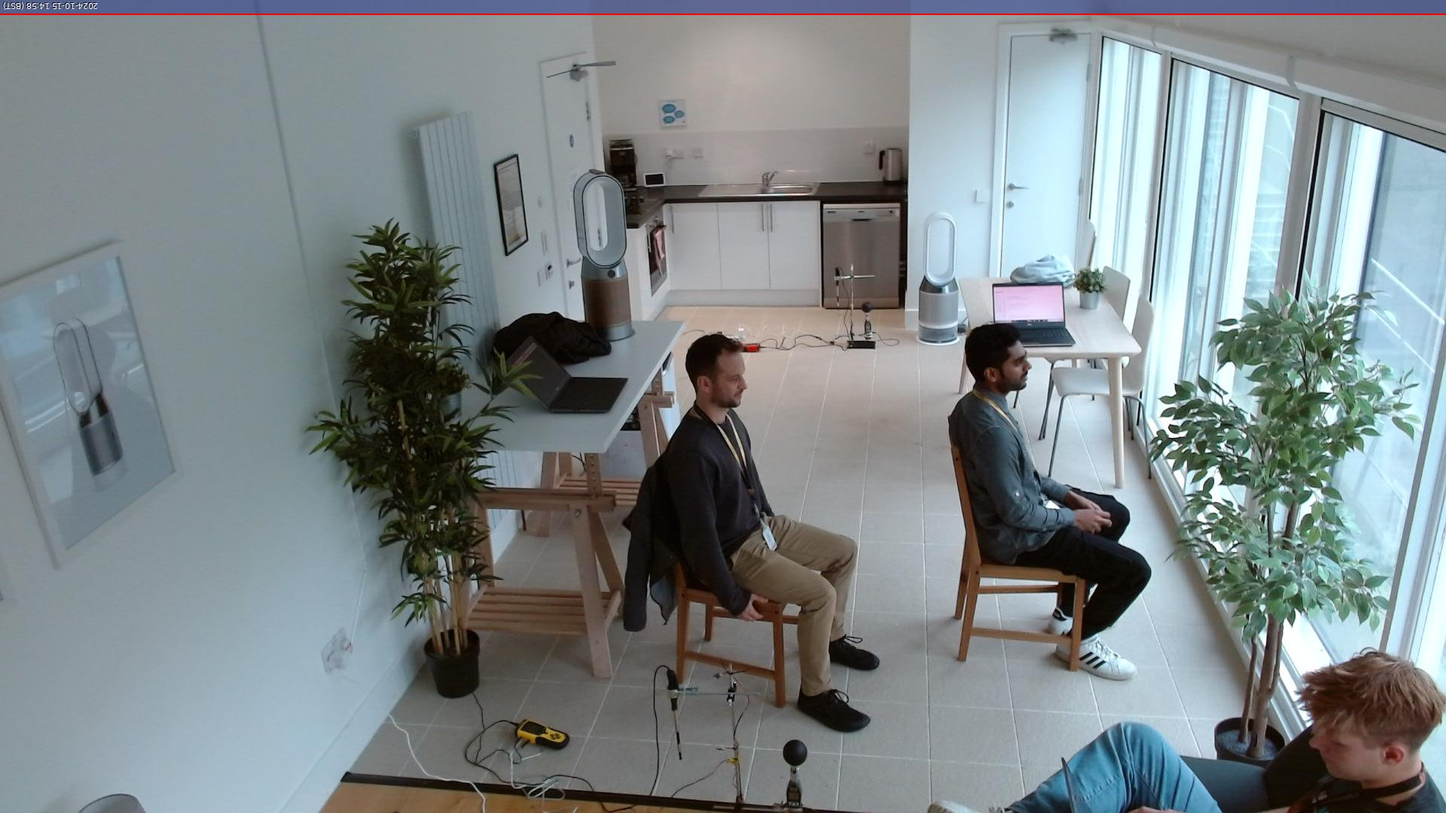long sleeve shirt: (946, 386, 1077, 568)
short sleeve shirt: (1293, 768, 1446, 813)
sweater: (661, 406, 773, 621)
trousers: (728, 514, 865, 697), (1005, 715, 1222, 813), (1026, 478, 1154, 642)
